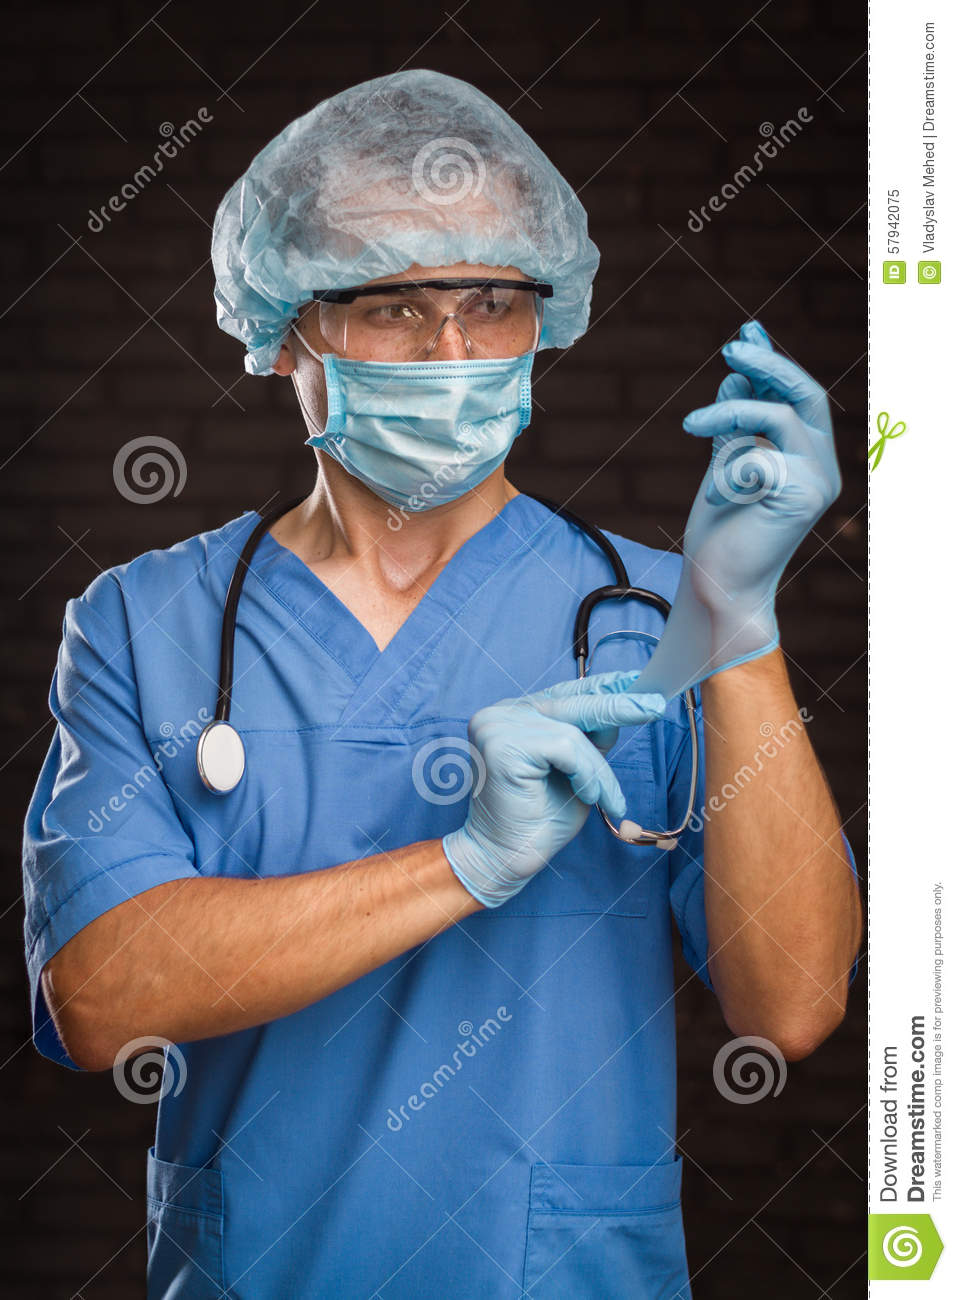mask: (313, 351, 538, 513)
